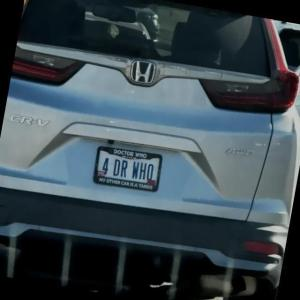Plate: (92, 146, 163, 192)
